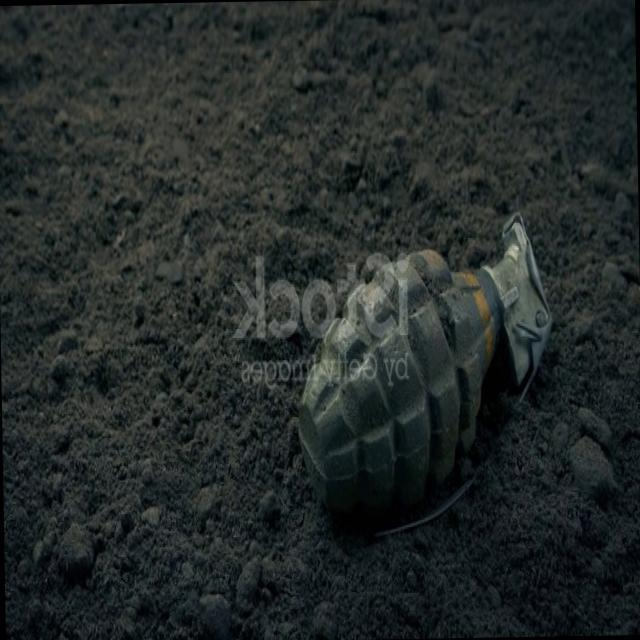grenade: (290, 207, 562, 562)
